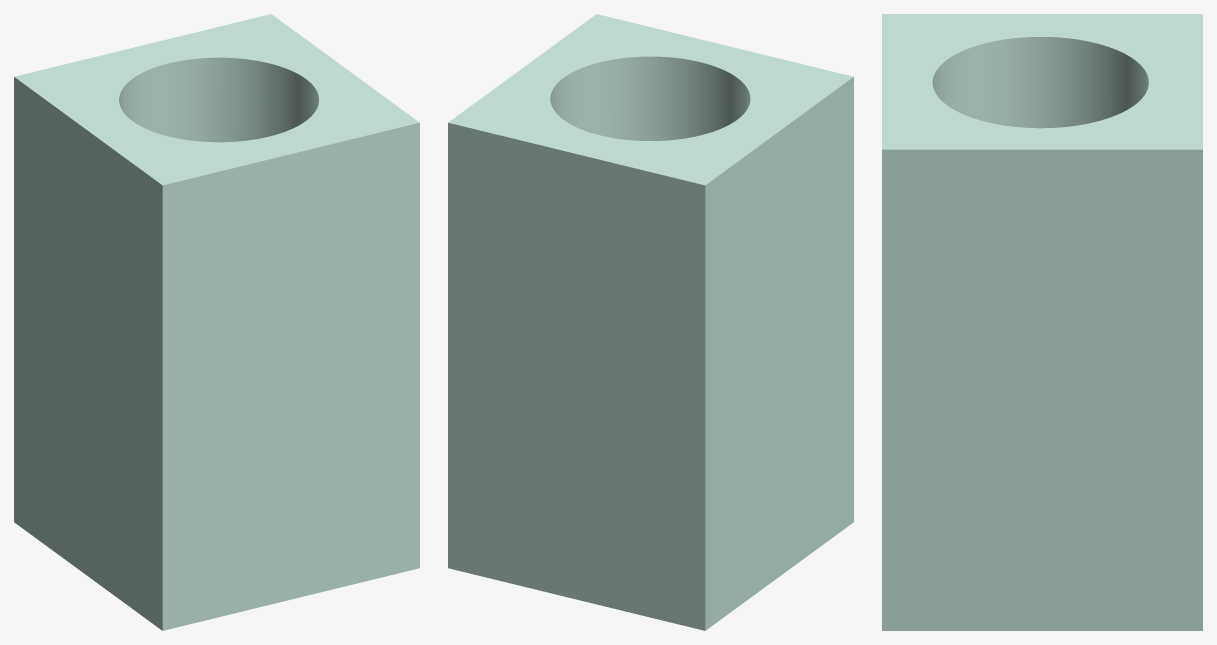
The picture shows the model from 3 angles, left to right: view 1: azimuth 30°, elevation 25°; view 2: azimuth 150°, elevation 25°; view 3: azimuth 270°, elevation 25°; orthographic projection. The views are drawn at different scales.
Visible parts, largest first — view 1: Renderer Node; view 2: Renderer Node; view 3: Renderer Node.
Part boxes in pixels (x1,y1,x2,y2): Renderer Node: (14, 14, 419, 630); Renderer Node: (448, 14, 853, 630); Renderer Node: (882, 14, 1202, 630).
Bounding box in the file's own units: 0.4531 × 0.75 × 0.4531.
